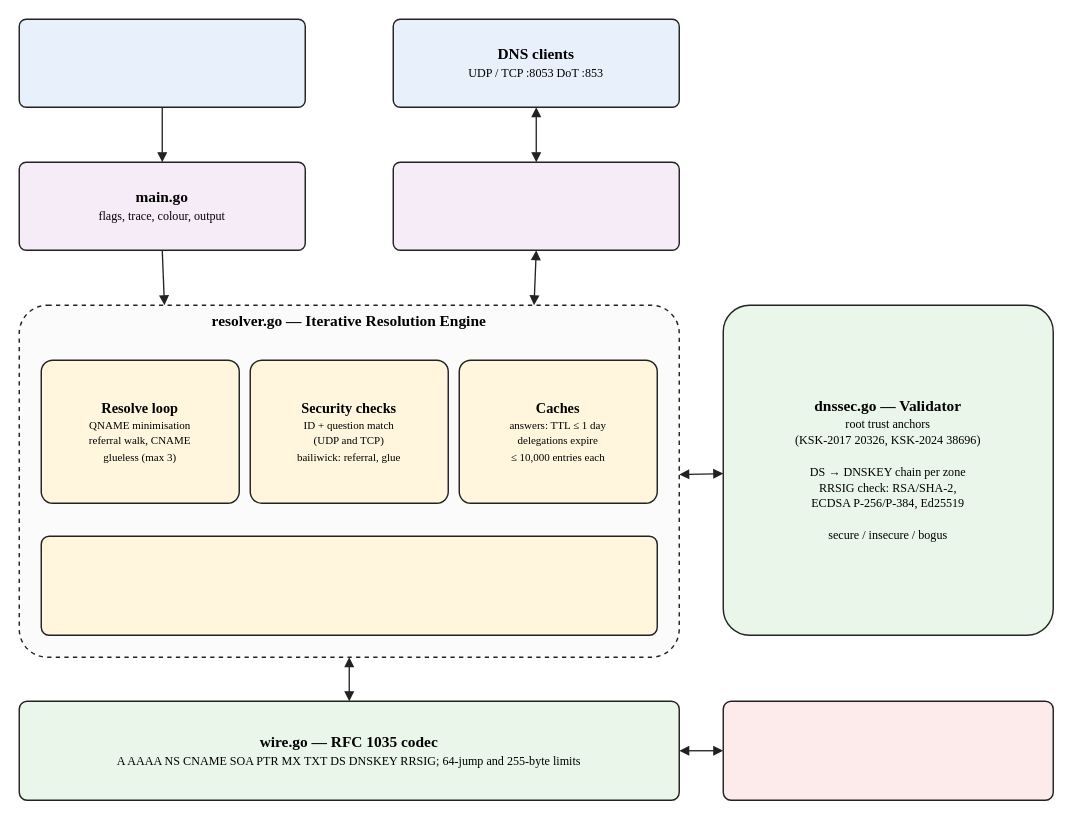
Image size: 1074x821. Some labels were removed from this diagram. The centre of each missing label's shape, as x and y in pixels:
"CLI client dnsr [-t TYPE] [-dnssec] <name>" belongs at (161,62).
"Internet: root, TLD, authoritative servers (port 53)" belongs at (887,750).
"server.go UDP + TCP + TLS listeners rate limit, worker cap, AD / TC" belongs at (535,205).
"Transport UDP (EDNS0 1232, DO bit) → TCP when TC = 1" belongs at (348,585).
